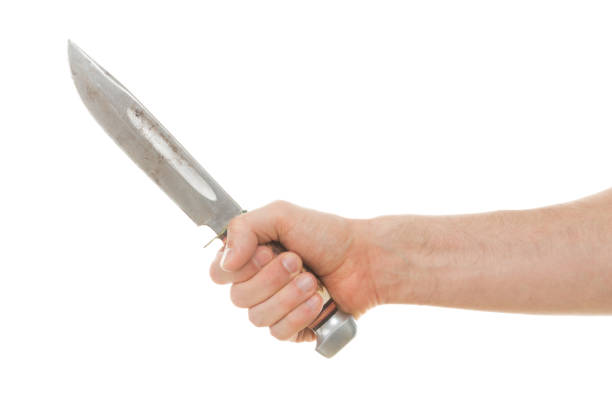knife: (66, 34, 359, 361)
